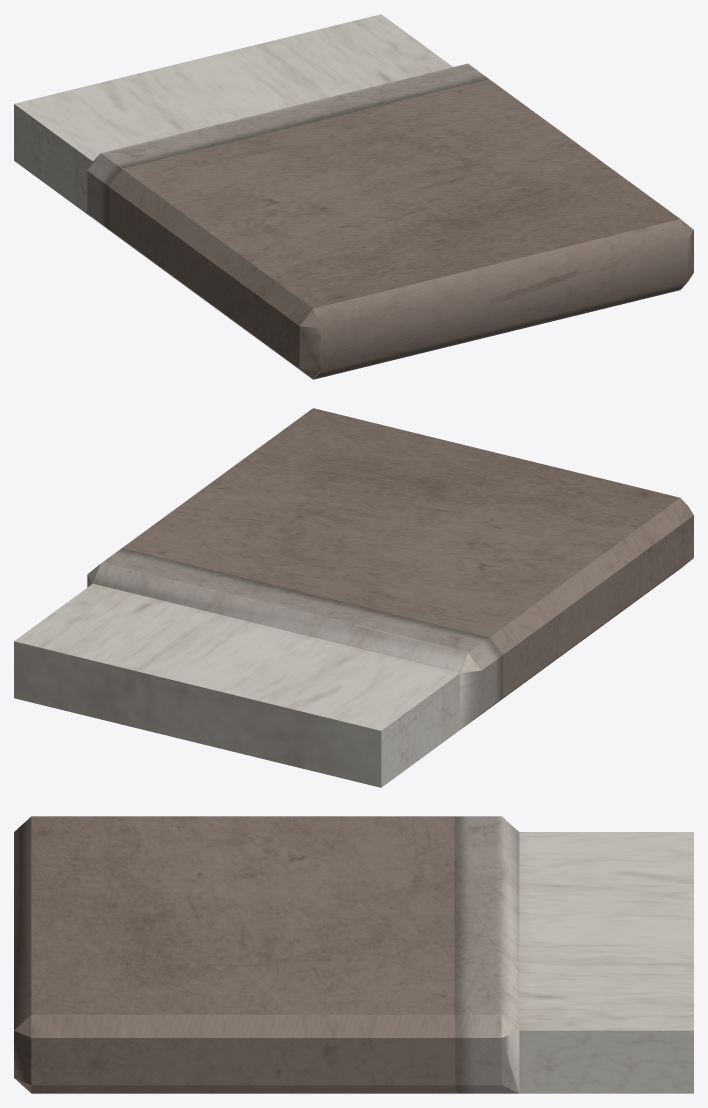
Rendered from matress.fbx.
3 renders of one model, top to bottom at view 1: azimuth 30°, elevation 25°; view 2: azimuth 150°, elevation 25°; view 3: azimuth 270°, elevation 25°, orthographic. The views are drawn at different scales.
Parts seen in each view (by area): view 1: matress.001; view 2: matress.001; view 3: matress.001.
Boxes of the visible parts, bbox=[...] form: matress.001: bbox=[14, 14, 693, 379]; matress.001: bbox=[14, 408, 693, 787]; matress.001: bbox=[14, 816, 693, 1093].
Size of the model in its own units: 1.61 by 0.2771 by 2.17.
1 material, 1 textured.
